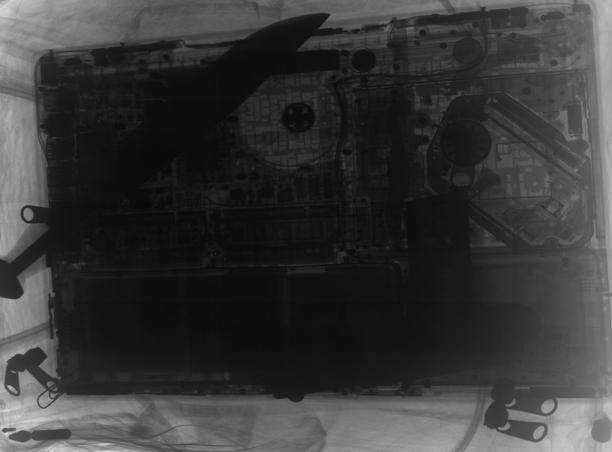Handgun: (260, 186, 546, 408)
Knife: (1, 9, 332, 307)
